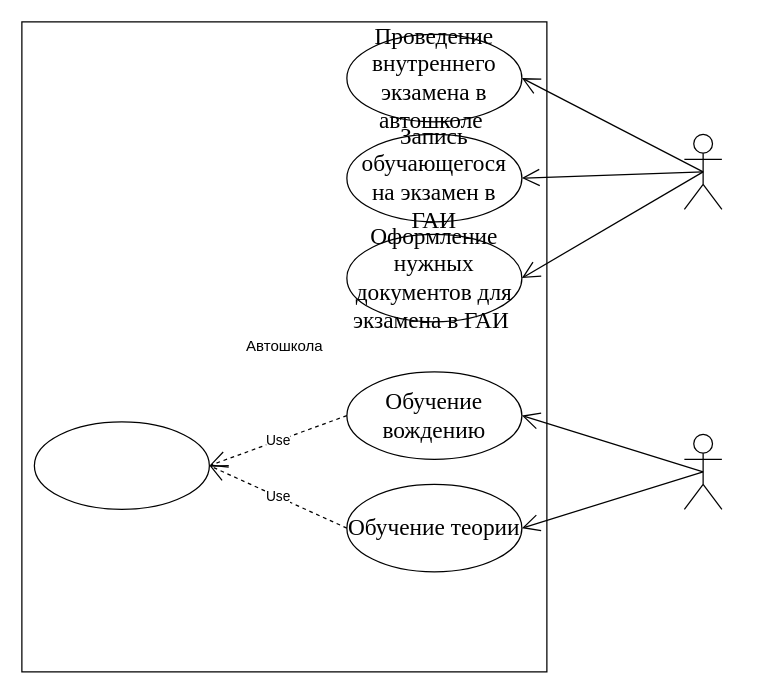
Some shapes in this 775 by 694 pixel diagram are drawn without their labels. The centre of each missing label's shape, as x and y in pixels:
"Инструктор" belongs at pixel 702 171.
"Обучающийся" belongs at pixel 702 471.
"Оплата обучения в автошкол" belongs at pixel 121 465.
